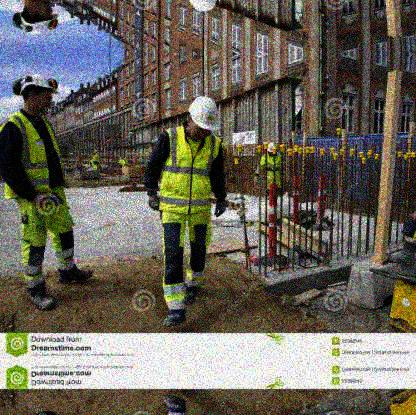helmet: (182, 97, 219, 145), (19, 74, 58, 117), (14, 1, 61, 34), (268, 142, 275, 157)
